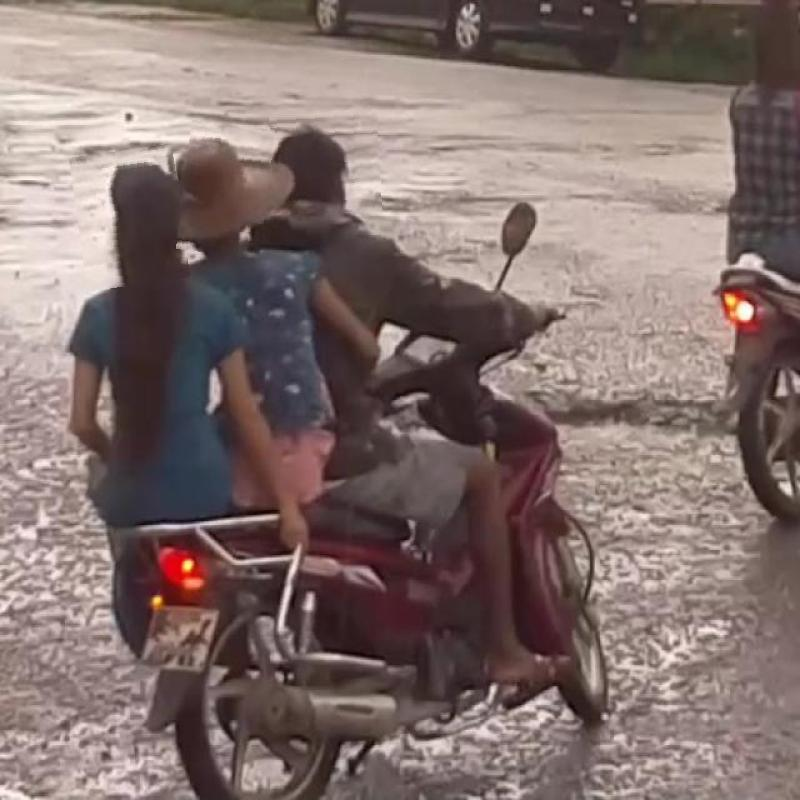nohelmet: (73, 146, 186, 288), (180, 122, 272, 258), (271, 110, 381, 214)
